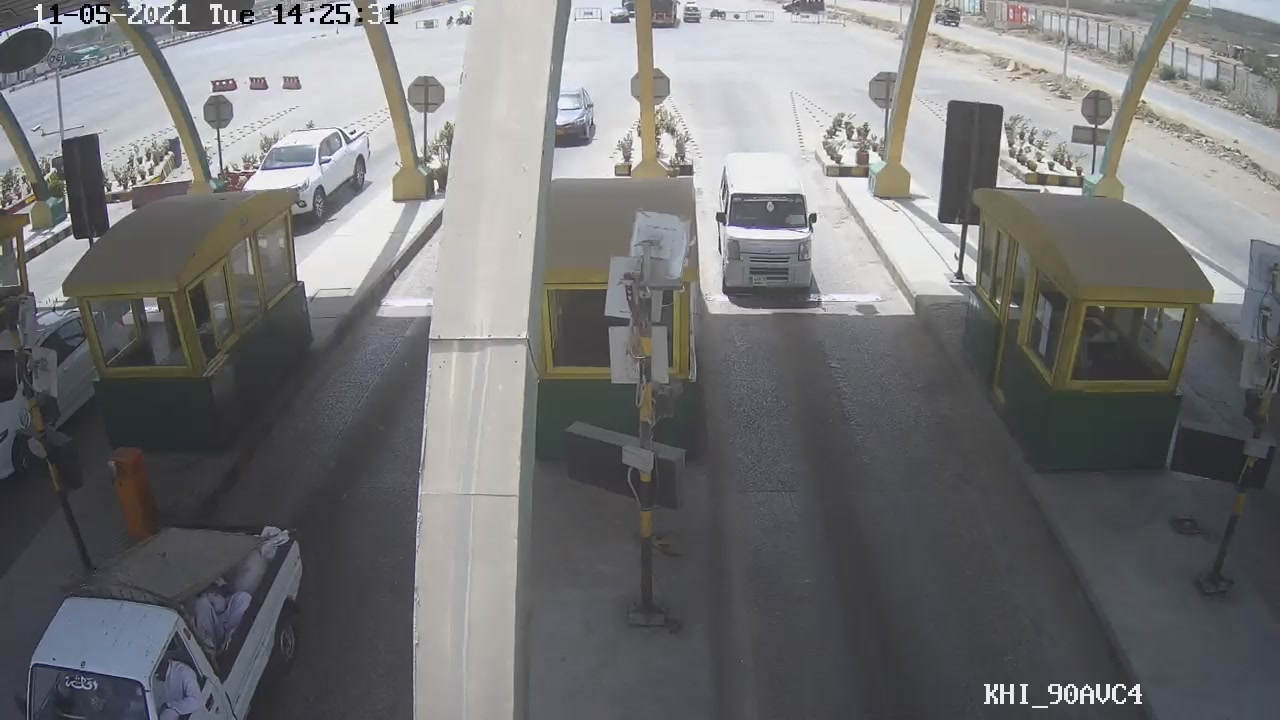F1: (711, 143, 824, 299)
